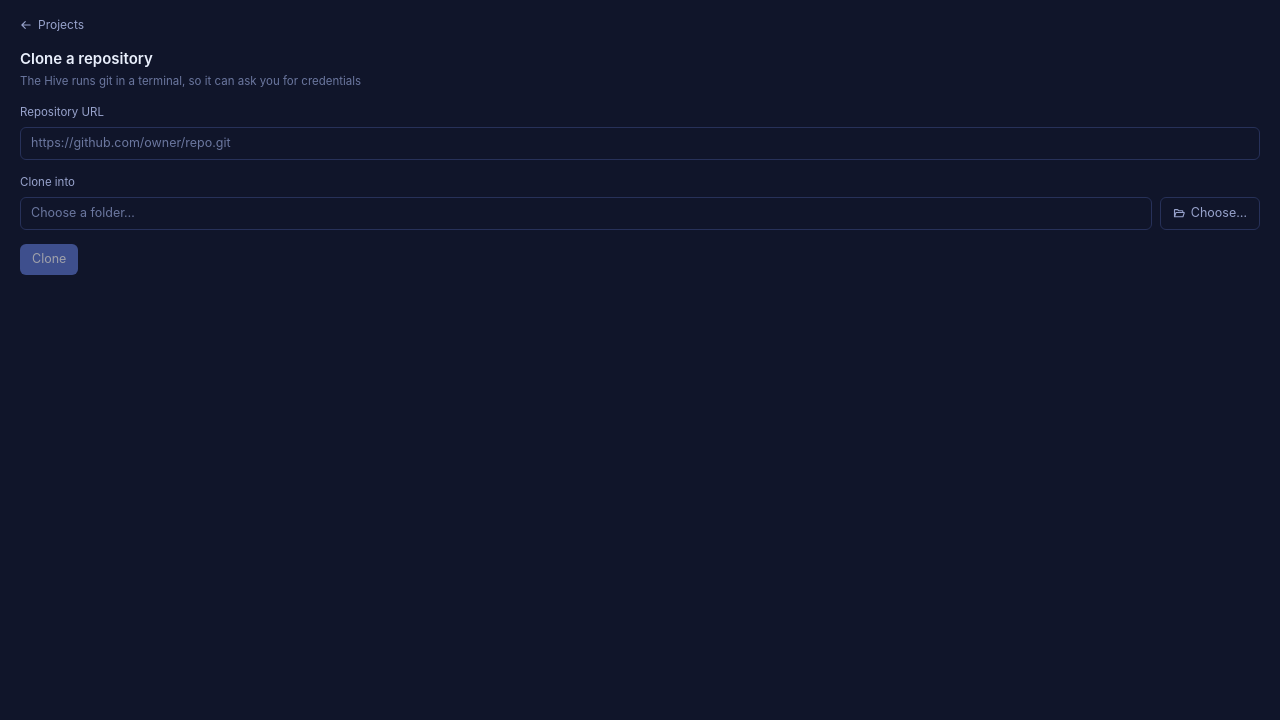
Test case: CloneRepoView › shows the terminal once the clone is running
Type "https://github.com/behiques/the-hive.git" into the field labelled "Repository URL" at x=640, y=143, box [20,127,1260,160]
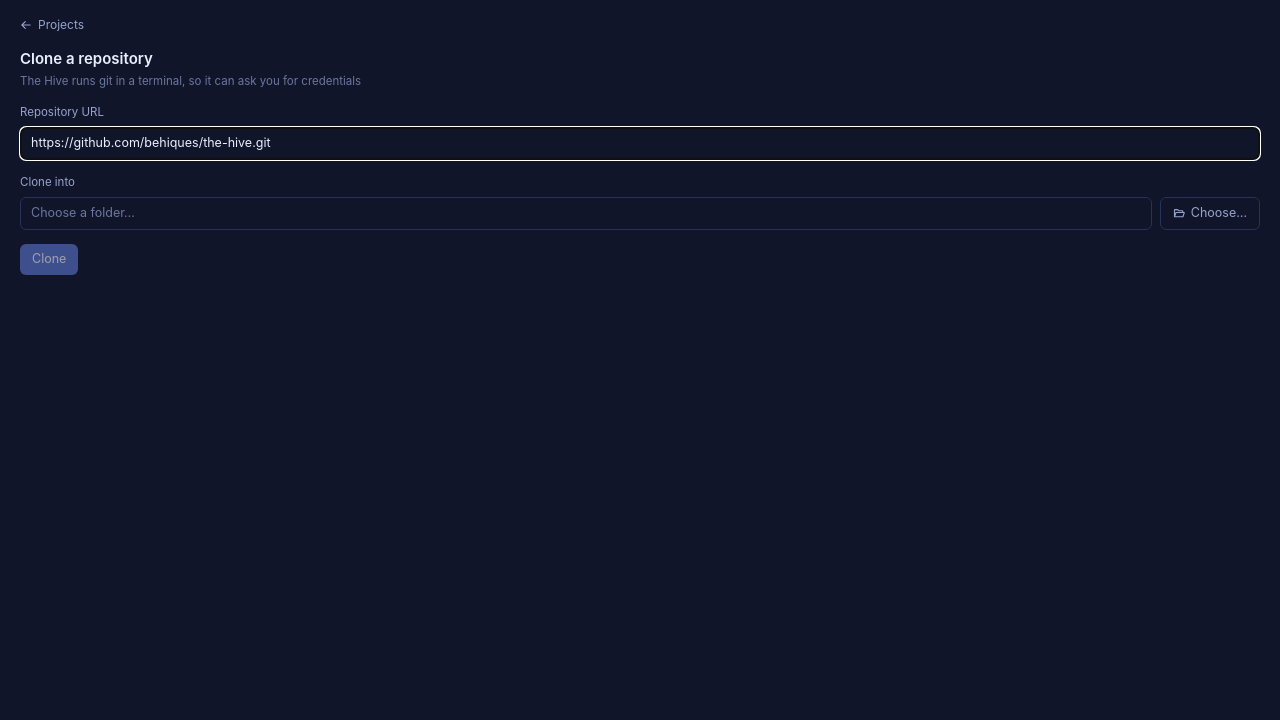
Click the button "Choose…" at x=1210, y=213, box [1160,197,1260,230]
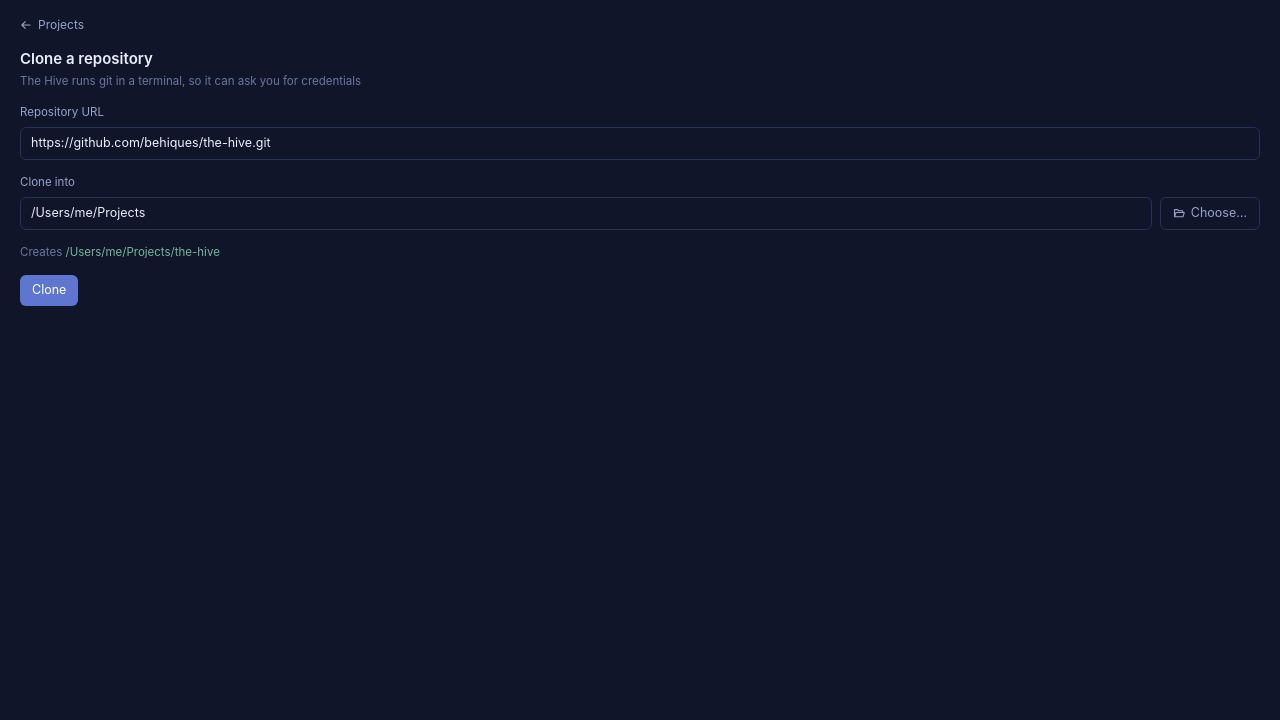
Click the button "Clone" at x=49, y=290, box [20,275,78,306]
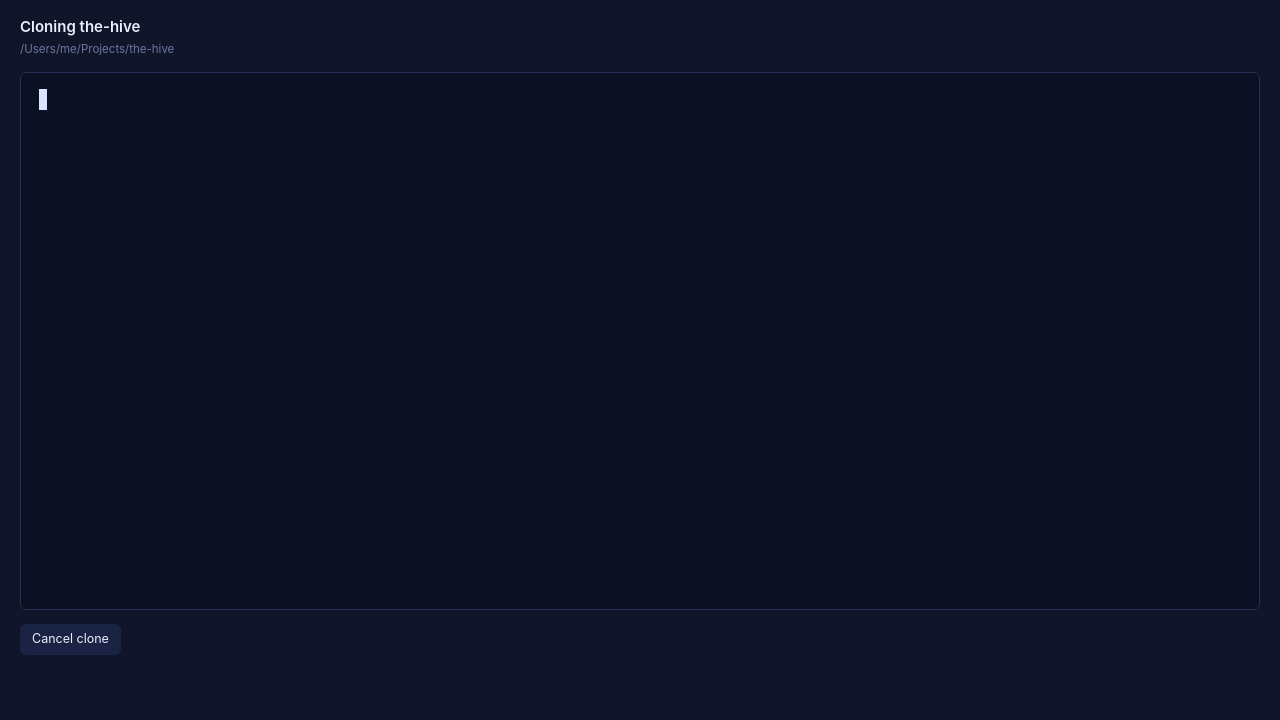
Expected: the button "Cancel clone" is shown, [20,624,121,655]
Expected: the label labelled "Repository URL" is gone
